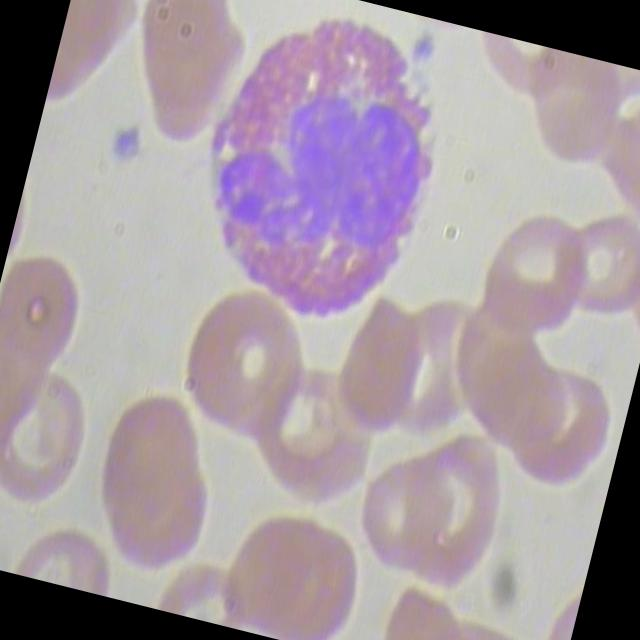Platelets: (104, 116, 150, 176)
RBC: (380, 416, 522, 602), (76, 381, 222, 552), (162, 280, 308, 450), (338, 434, 465, 600), (462, 192, 597, 346), (0, 356, 113, 527)
WBC: (159, 0, 473, 355)
